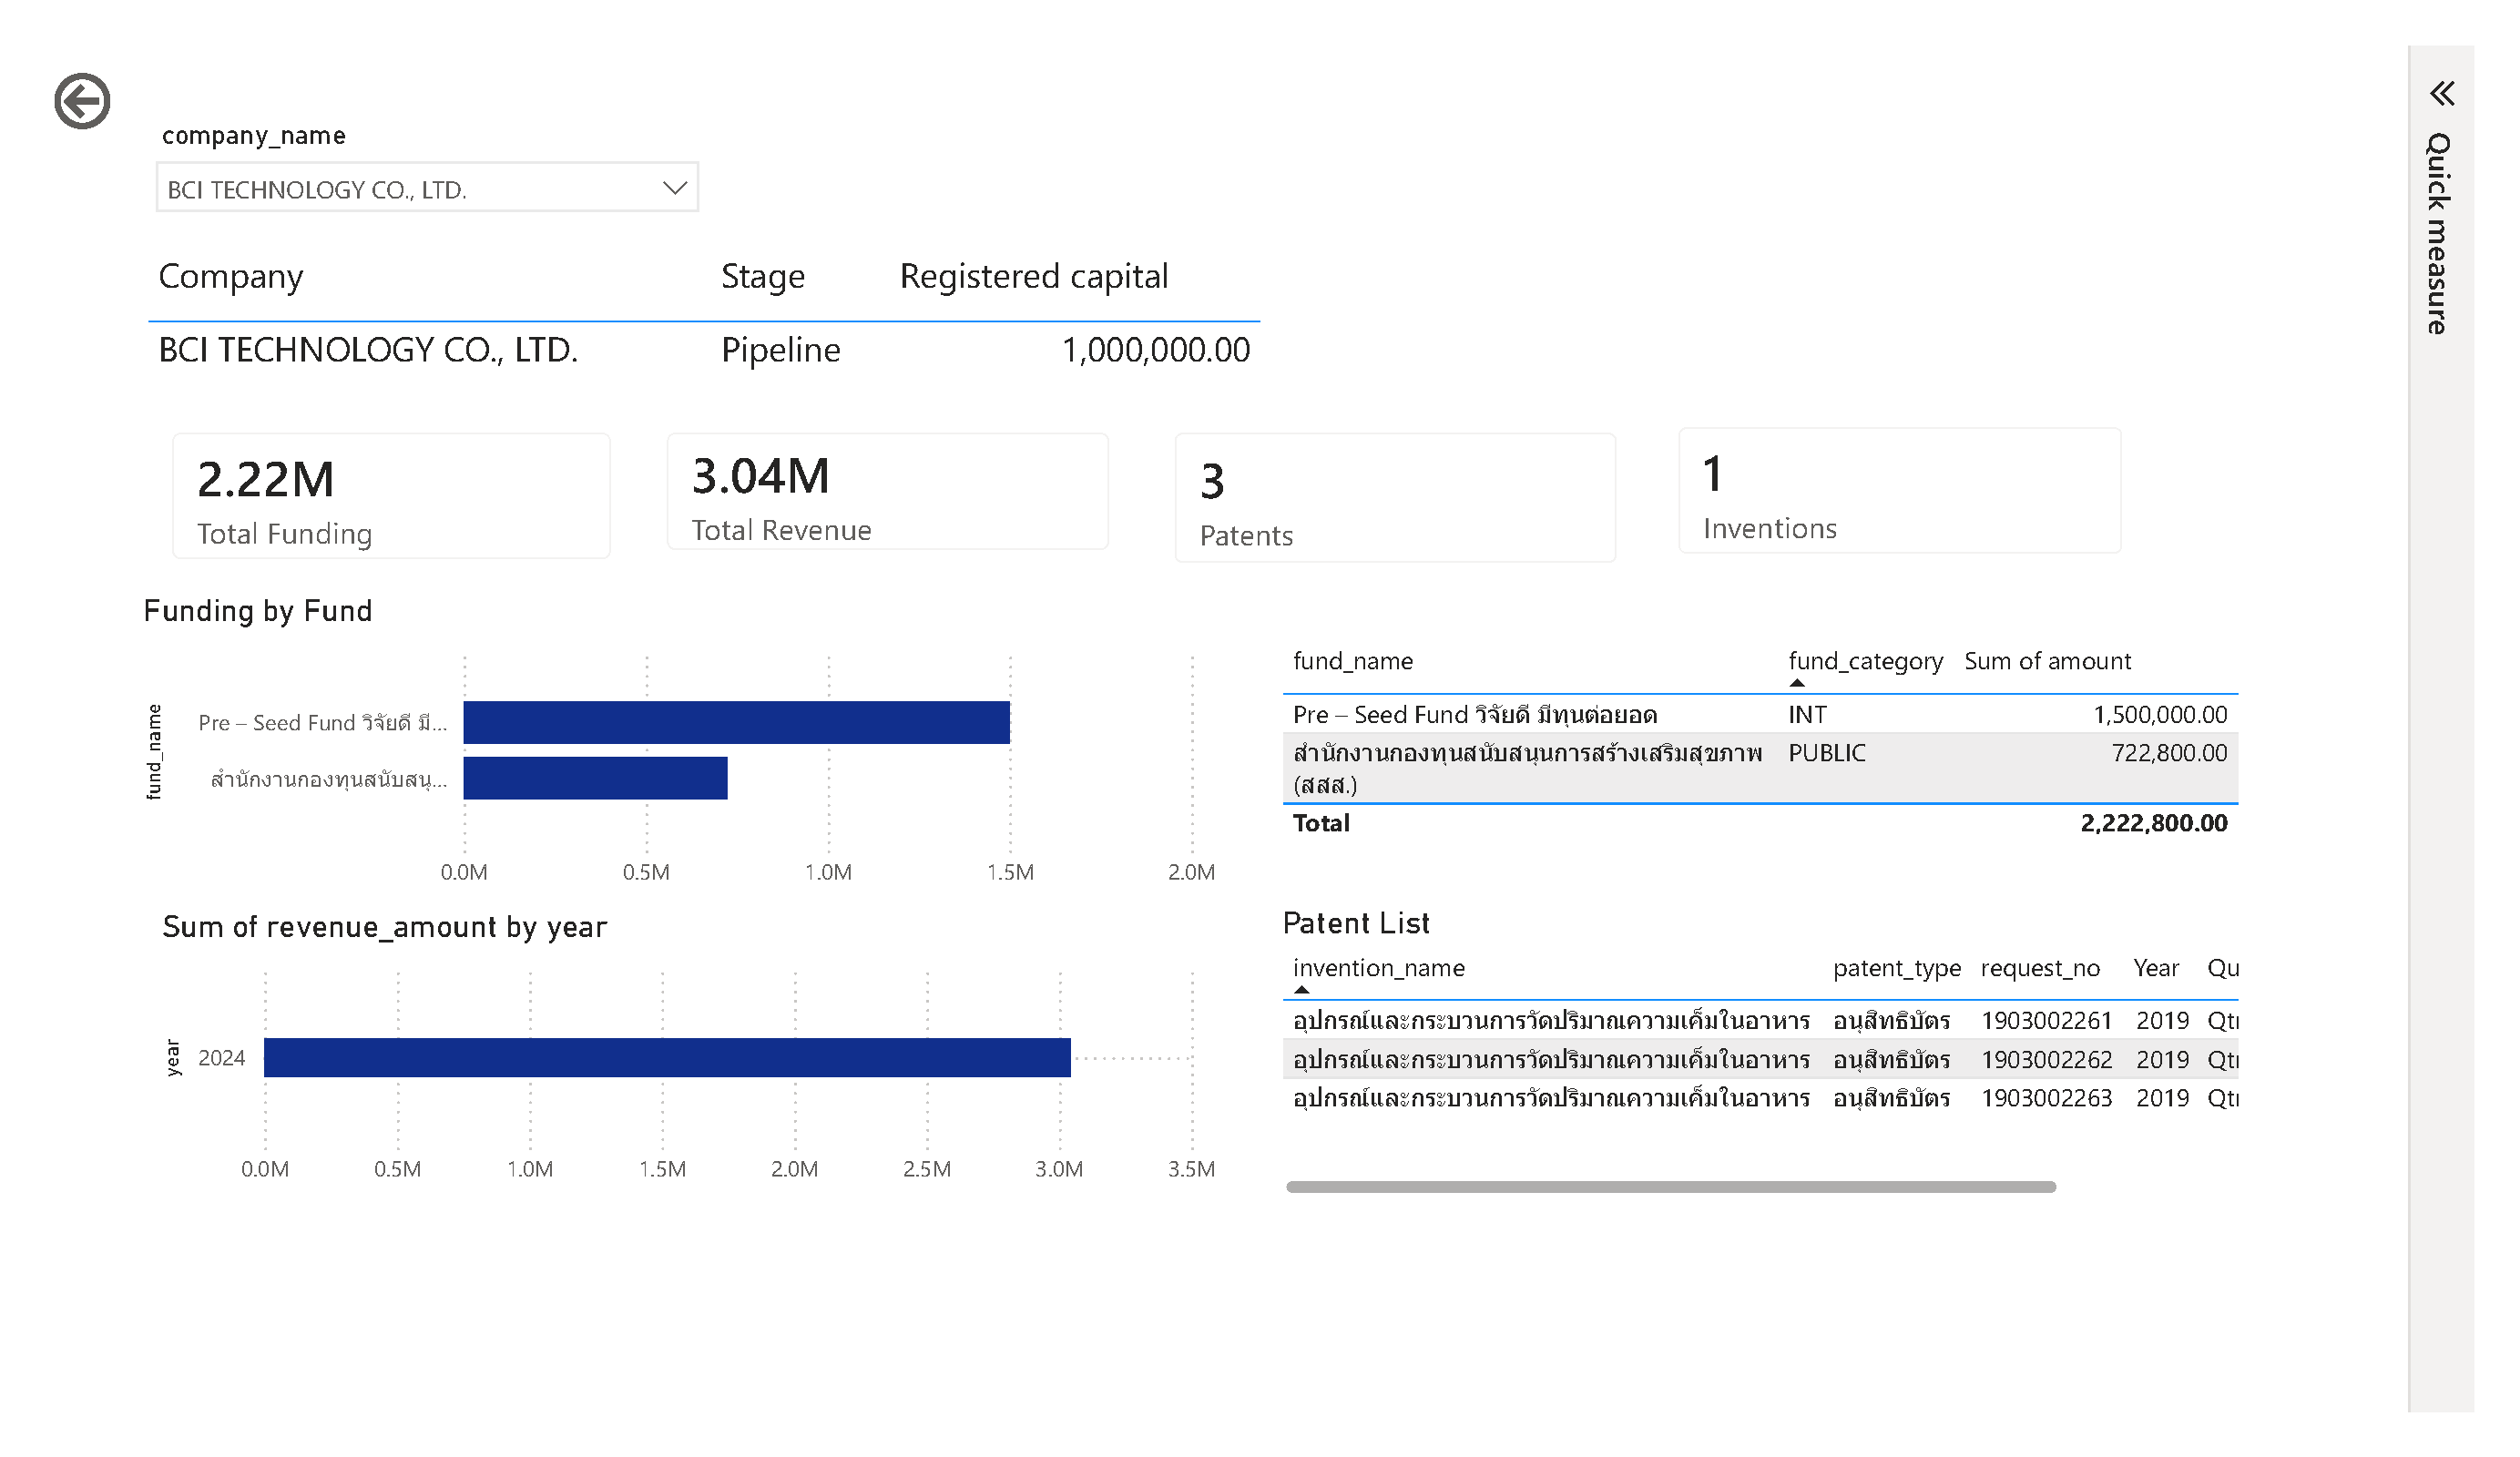

The page's visual inventory and layout, read from the dashboard file:
{"tool":"powerbi","page":{"name":"Company Profile","canvas":[1280,720],"ordinal":1},"visuals":[{"type":"tableEx","fields":{"Values":["public company_profile_view.company_name","public company_profile_view.company_stage","Sum(public company_profile_view.registered_capital)"]},"box":[50,95,615,88.3],"z":0},{"type":"actionButton","box":[0,0,100,40],"z":1000},{"type":"slicer","fields":{"Values":["public company_dashboard_view.company_name"]},"box":[50,25,313.8,78.8],"z":2000},{"type":"cardVisual","fields":{"Data":["Sum(public company_profile_view.total_funding_amount)"]},"box":[51.7,183.3,271.7,101.7],"z":3000},{"type":"cardVisual","fields":{"Data":["Sum(public company_profile_view.total_revenue_amount)"]},"box":[320,183.3,273.3,96.7],"z":4000},{"type":"cardVisual","fields":{"Data":["Sum(public company_profile_view.total_patents)"]},"box":[595,183.3,273.3,103.3],"z":5000},{"type":"cardVisual","fields":{"Data":["Sum(public company_profile_view.total_inventions)"]},"box":[868.3,180,273.3,101.7],"z":6000},{"type":"clusteredBarChart","title":"Funding by Fund","fields":{"Category":["public company_funding_summary.fund_name"],"Y":["Sum(public company_funding_summary.amount)"]},"box":[48,286,592,170],"z":7000},{"type":"tableEx","fields":{"Values":["public company_funding_summary.fund_name","public company_funding_summary.fund_category","Sum(public company_funding_summary.amount)"]},"box":[665,308.3,528.3,123.3],"z":8000},{"type":"barChart","fields":{"Category":["public company_revenue_summary.year"],"Y":["Sum(public company_revenue_summary.revenue_amount)"]},"box":[58.3,456.7,581.7,160],"z":9000},{"type":"tableEx","title":"Patent List","fields":{"Values":["public company_patent_summary.invention_name","public company_patent_summary.patent_type","public company_patent_summary.request_no","public company_patent_summary.application_submit_date.Variation.Date Hierarchy.Year","public company_patent_summary.application_submit_date.Variation.Date Hierarchy.Quarter","public company_patent_summary.application_submit_date.Variation.Date Hierarchy.Month","public company_patent_summary.application_submit_date.Variation.Date Hierarchy.Day"]},"box":[665,455,528.3,163.3],"z":10000}]}

Visuals, with their boxes on the page's 1280x720 design canvas (x1, y1, x2, y2). These are canvas units, not pixel positions in the 2520x1457 screenshot, which may show the page scaled, cropped or inside an application window:
tableEx - public company_profile_view.company_name x public company_profile_view.company_stage: bbox=[50, 95, 665, 183]
actionButton: bbox=[0, 0, 100, 40]
slicer - public company_dashboard_view.company_name: bbox=[50, 25, 364, 104]
cardVisual - Sum(public company_profile_view.total_funding_amount): bbox=[52, 183, 323, 285]
cardVisual - Sum(public company_profile_view.total_revenue_amount): bbox=[320, 183, 593, 280]
cardVisual - Sum(public company_profile_view.total_patents): bbox=[595, 183, 868, 287]
cardVisual - Sum(public company_profile_view.total_inventions): bbox=[868, 180, 1142, 282]
"Funding by Fund" clusteredBarChart: bbox=[48, 286, 640, 456]
tableEx - public company_funding_summary.fund_name x public company_funding_summary.fund_category: bbox=[665, 308, 1193, 432]
barChart - public company_revenue_summary.year x Sum(public company_revenue_summary.revenue_amount): bbox=[58, 457, 640, 617]
"Patent List" tableEx: bbox=[665, 455, 1193, 618]
